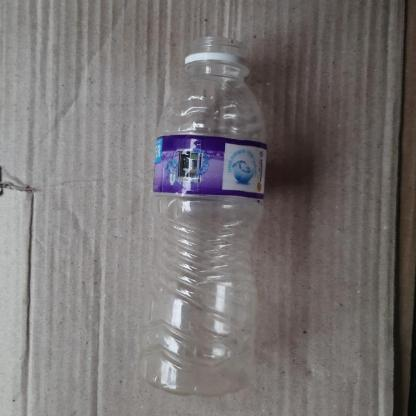Plastic Bottle: (143, 37, 269, 397)
